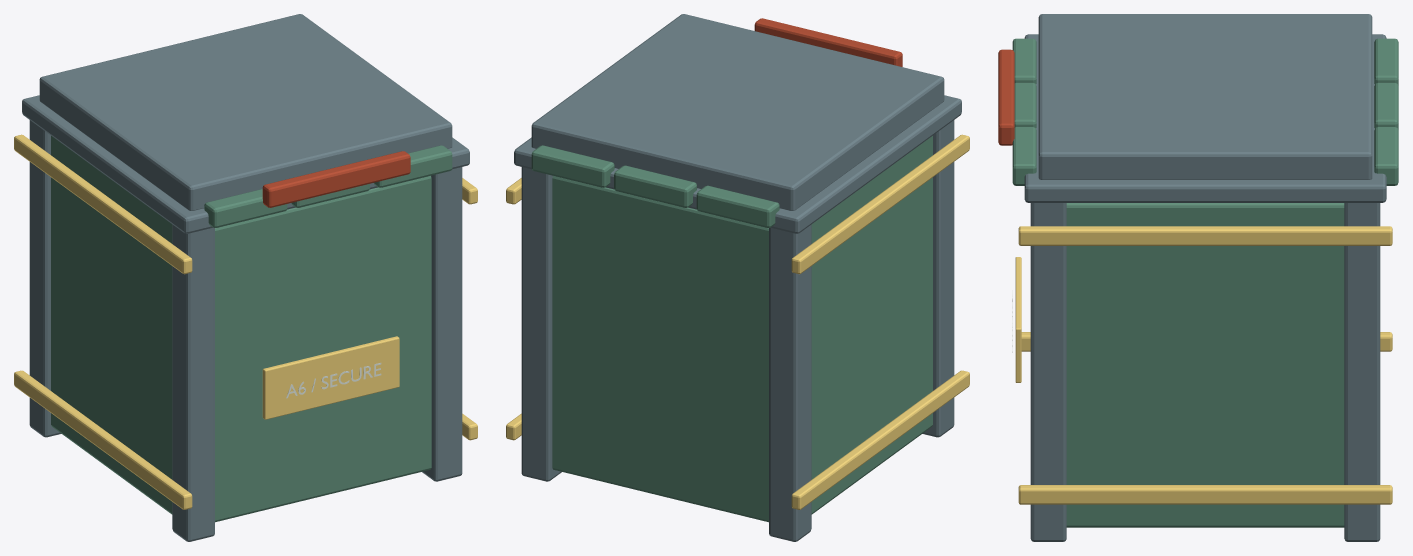
Rendered from secure_case_d0.glb.
3 views of the same model, side by side, from view 1: azimuth 30°, elevation 25°; view 2: azimuth 150°, elevation 25°; view 3: azimuth 270°, elevation 25° (orthographic). The views are drawn at different scales.
Visible parts, largest first — view 1: Crate shell.009, Reinforced lid.003, Corner post.036, Corner post.038, Identification placard.009, Corner post.037, Solid crate lid.009, Vertical tie band.036, Vertical tie band.037, Lock bar.003, Lid slat.054, Lid slat.056 (+2 smaller); view 2: Crate shell.009, Reinforced lid.003, Corner post.037, Corner post.039, Corner post.036, Solid crate lid.009, Vertical tie band.036, Vertical tie band.037, Lock bar.003, Lid slat.057, Lid slat.059, Lid slat.058; view 3: Crate shell.009, Reinforced lid.003, Corner post.038, Corner post.039, Solid crate lid.009, Vertical tie band.039, Vertical tie band.038, Lock bar.003, Lid slat.059, Lid slat.056, Lid slat.057, Lid slat.058 (+3 smaller).
Part boxes in pixels (box(x1,y1,x2,y2)): Crate shell.009: box(51, 136, 431, 522); Reinforced lid.003: box(39, 14, 452, 210); Corner post.036: box(172, 224, 214, 541); Corner post.038: box(422, 167, 462, 481); Identification placard.009: box(262, 336, 399, 419); Corner post.037: box(29, 120, 61, 437); Solid crate lid.009: box(22, 95, 469, 233); Vertical tie band.036: box(14, 370, 192, 509); Vertical tie band.037: box(14, 134, 192, 274); Lock bar.003: box(262, 151, 410, 207); Lid slat.054: box(204, 189, 287, 227); Lid slat.056: box(374, 145, 452, 187); Crate shell.009: box(552, 136, 932, 522); Reinforced lid.003: box(531, 14, 944, 210); Corner post.037: box(769, 224, 811, 541); Corner post.039: box(521, 167, 561, 481); Corner post.036: box(922, 120, 954, 437); Solid crate lid.009: box(514, 95, 961, 233); Vertical tie band.036: box(791, 370, 969, 509); Vertical tie band.037: box(791, 134, 969, 274); Lock bar.003: box(754, 18, 902, 66); Lid slat.057: box(696, 185, 779, 227); Lid slat.059: box(531, 145, 614, 187); Lid slat.058: box(614, 165, 696, 207); Crate shell.009: box(1066, 203, 1344, 527); Reinforced lid.003: box(1038, 14, 1372, 179); Corner post.038: box(1030, 203, 1066, 541); Corner post.039: box(1344, 203, 1380, 541); Solid crate lid.009: box(1024, 34, 1386, 202); Vertical tie band.039: box(1018, 226, 1392, 245); Vertical tie band.038: box(1018, 485, 1392, 504); Lock bar.003: box(998, 49, 1014, 145); Lid slat.059: box(1374, 127, 1398, 185); Lid slat.056: box(1012, 127, 1036, 185); Lid slat.057: box(1374, 38, 1398, 85); Lid slat.058: box(1374, 82, 1398, 129).
Bounding box in the file's own units: 1.86 × 2.12 × 1.99.
